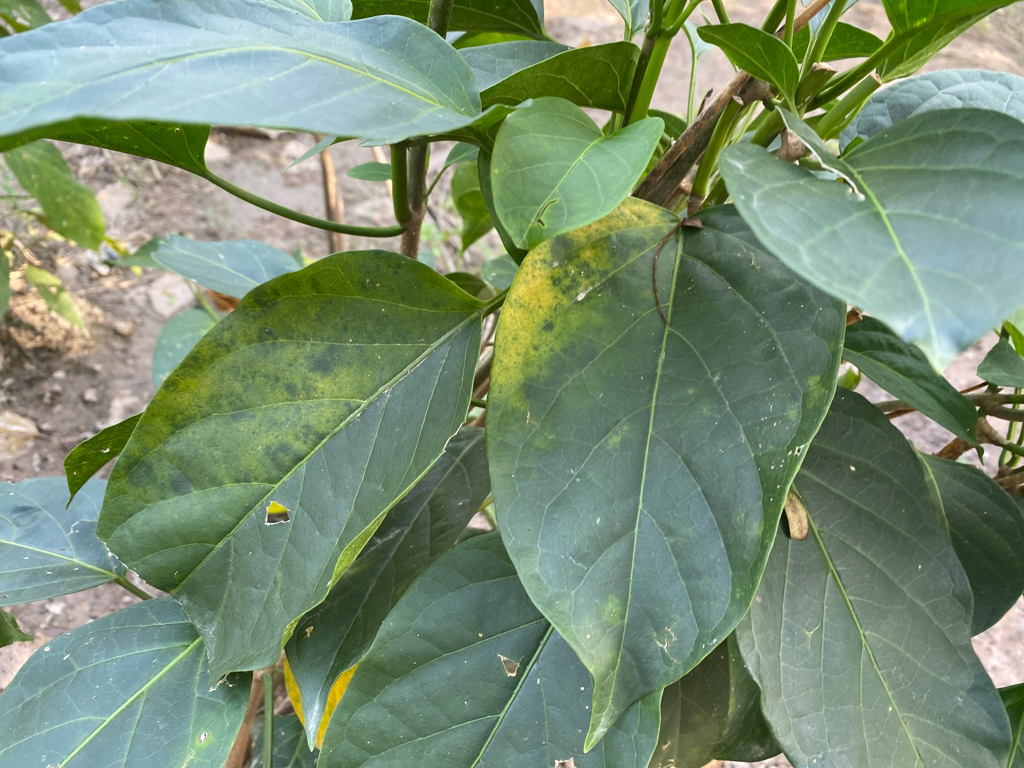Pepper yellow leaf: (101, 253, 402, 512), (467, 194, 683, 421)
